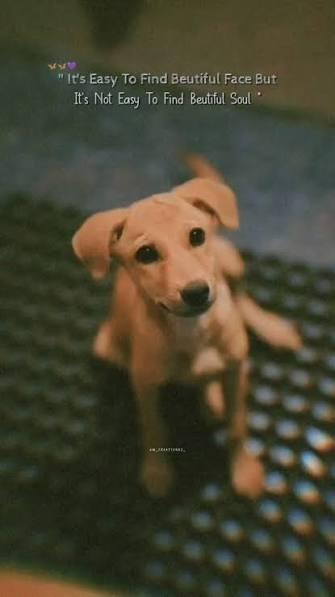puppy-dog: (69, 150, 305, 504)
